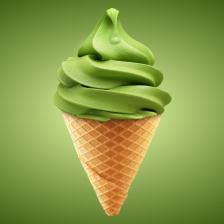green: (0, 0, 224, 224), (54, 8, 171, 122), (78, 8, 155, 65), (58, 55, 163, 89)
